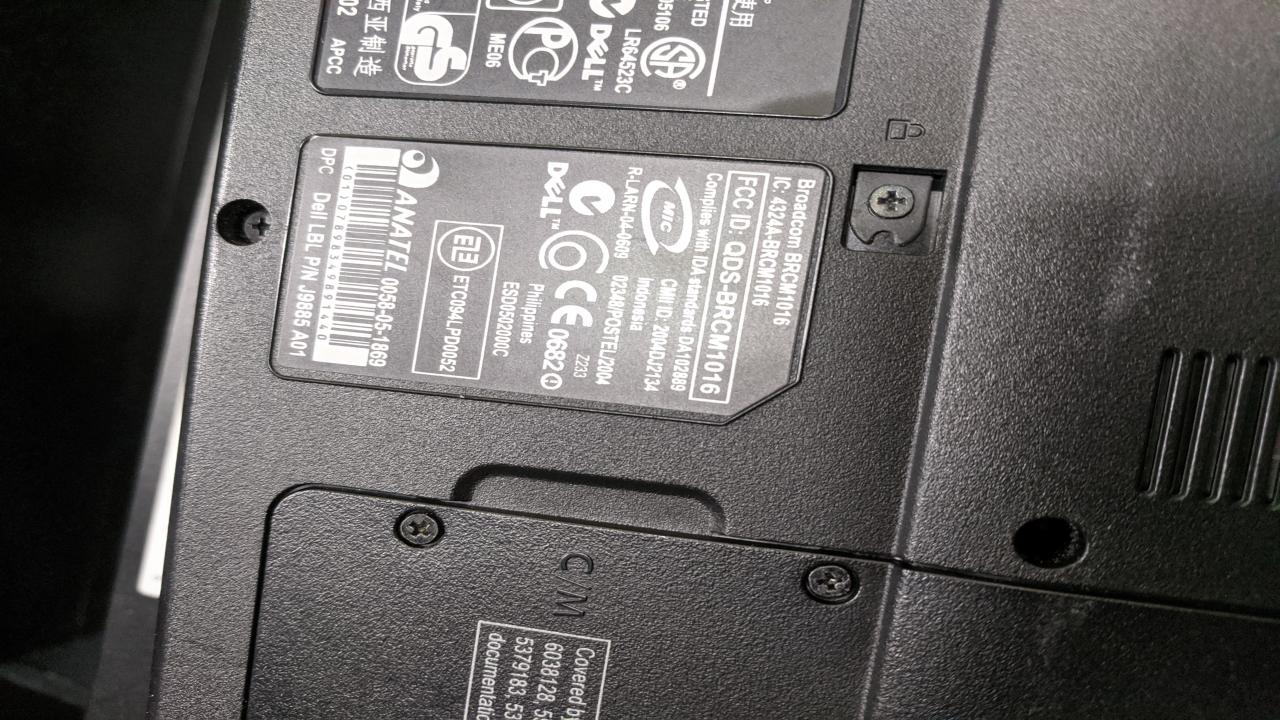CRS: (805, 561, 859, 603), (393, 510, 443, 547), (870, 184, 917, 221), (239, 211, 277, 242)
